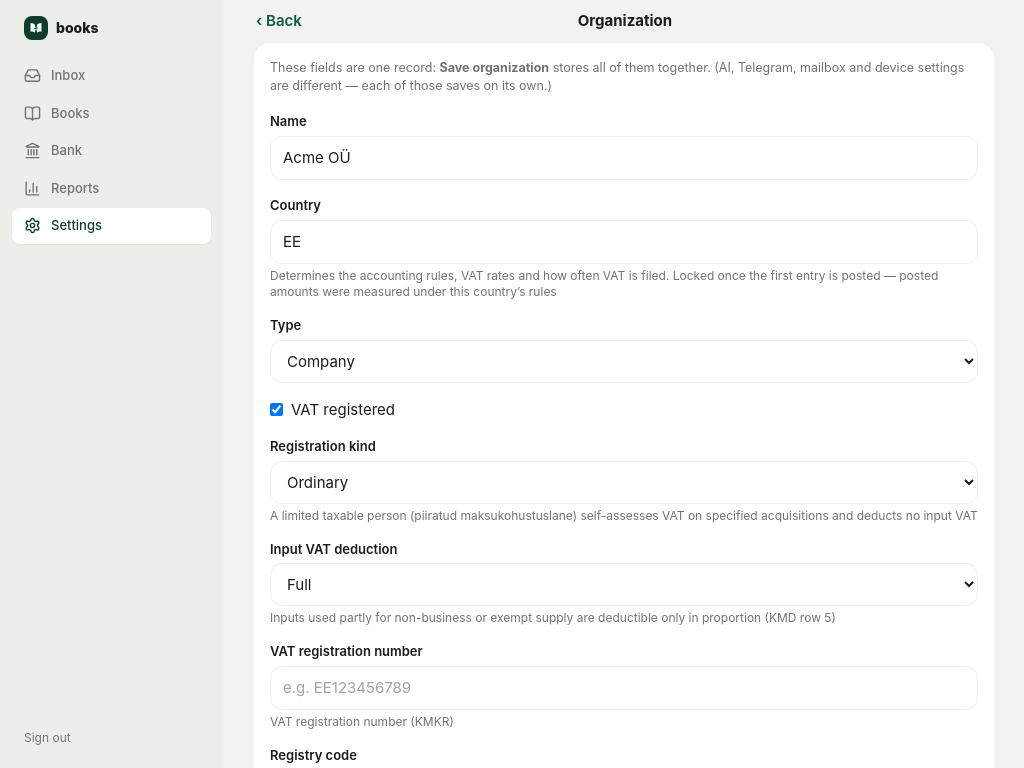
Test: route guard during a blocked-POP restoration (#370) › held clean, dirty by the time the episode ends: it asks; Keep keeps route and value
Replace the text in the field labelled "Name" with "Typed meanwhile" at {"x": 624, "y": 158}, box [270,136,978,180]
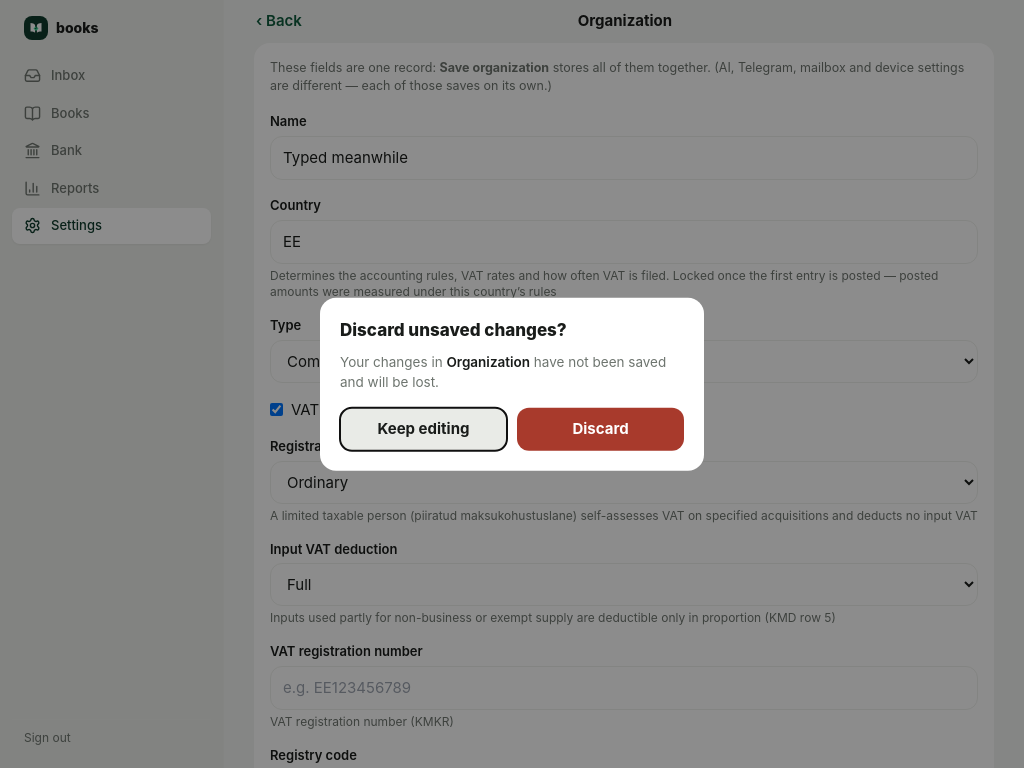
Click the button "Keep editing" at {"x": 424, "y": 429}, box [340,408,507,450]
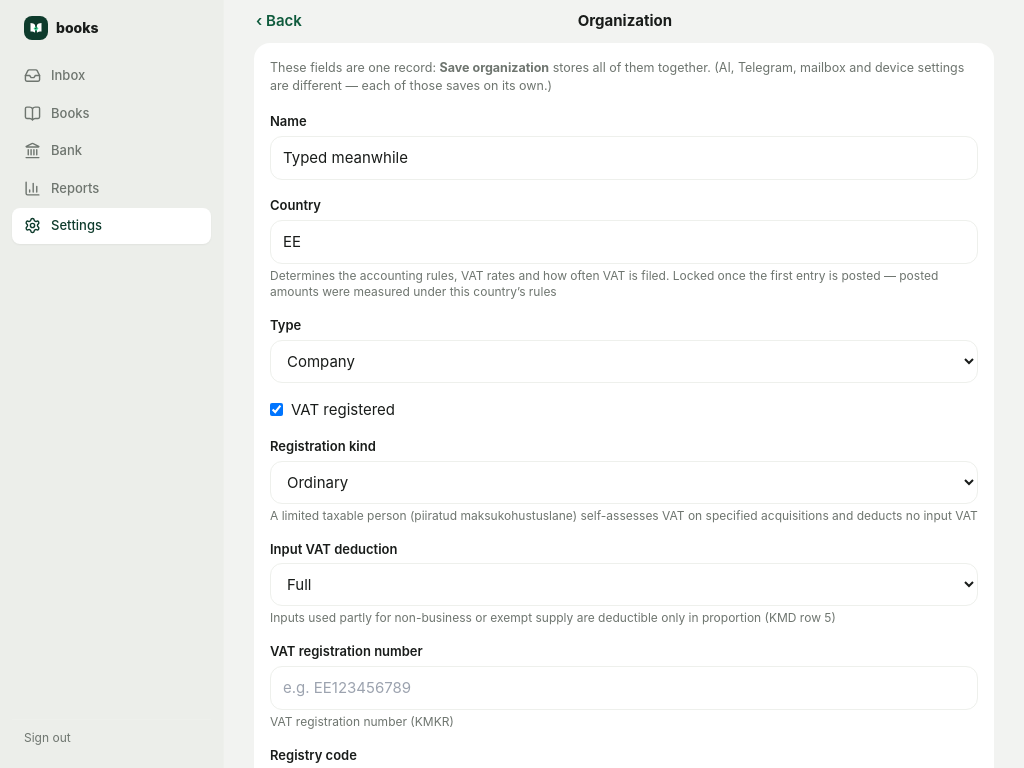
Check: the dialog is gone
